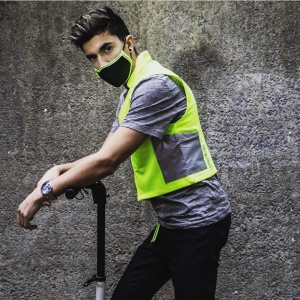person with partial safety: (69, 10, 237, 300)
safety vest: (117, 57, 221, 200)
